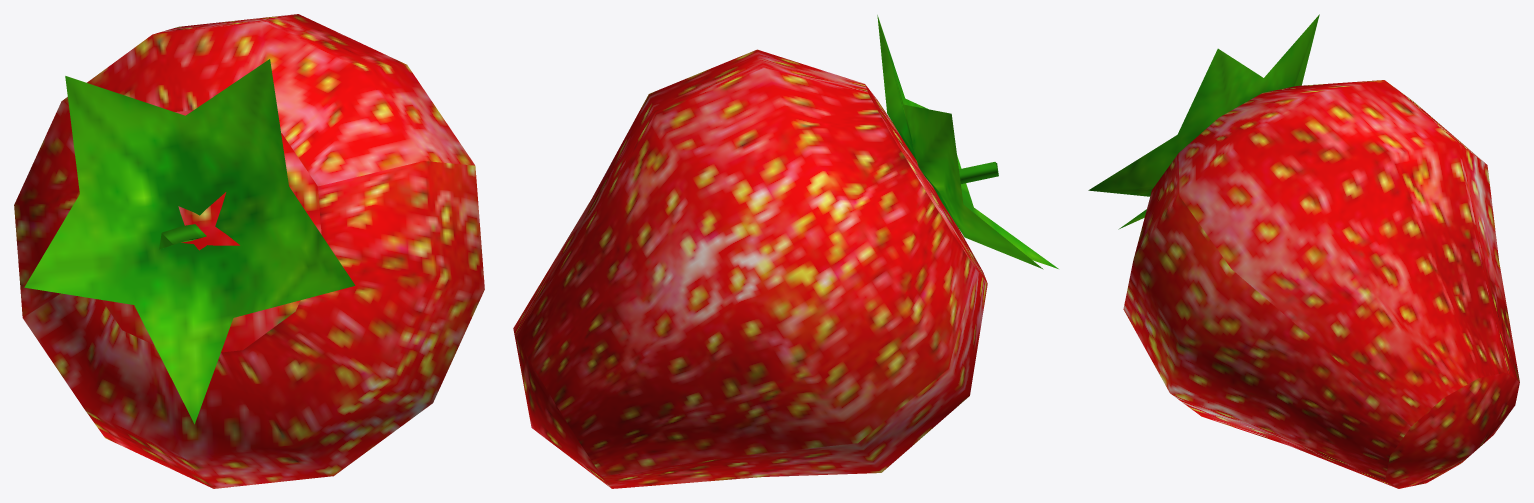
File: static.ico.obj
3 renders of one model, left to right at view 1: azimuth 30°, elevation 25°; view 2: azimuth 150°, elevation 25°; view 3: azimuth 270°, elevation 25°, orthographic. The views are drawn at different scales.
Bounding box in the file's own units: 4.75 × 4.28 × 4.53.
1 material, 1 textured.
